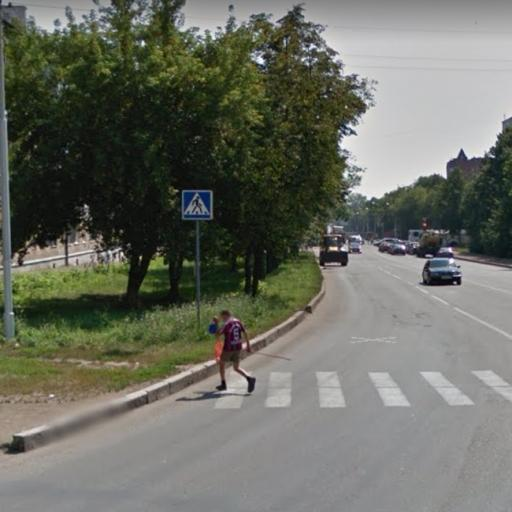traffic_sign: (179, 186, 218, 225)
